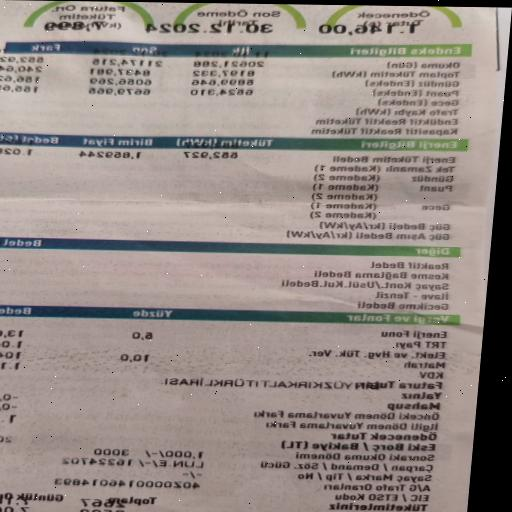electricity-bill: (0, 0, 499, 512)
